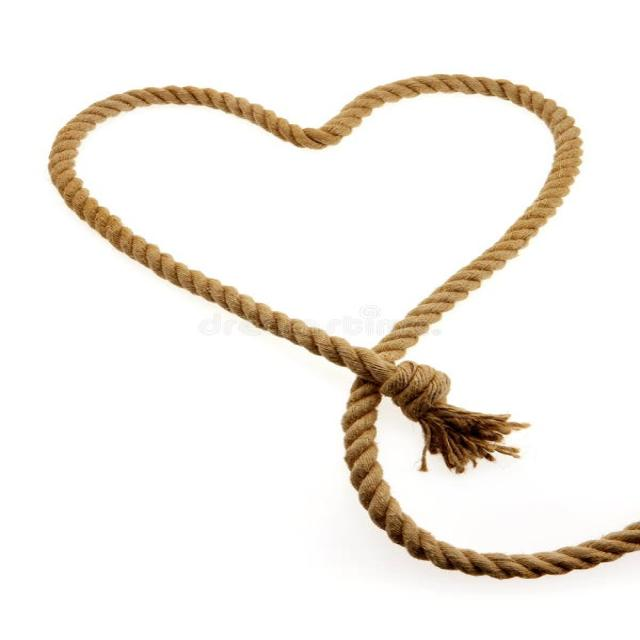Rope: (26, 66, 640, 581)
